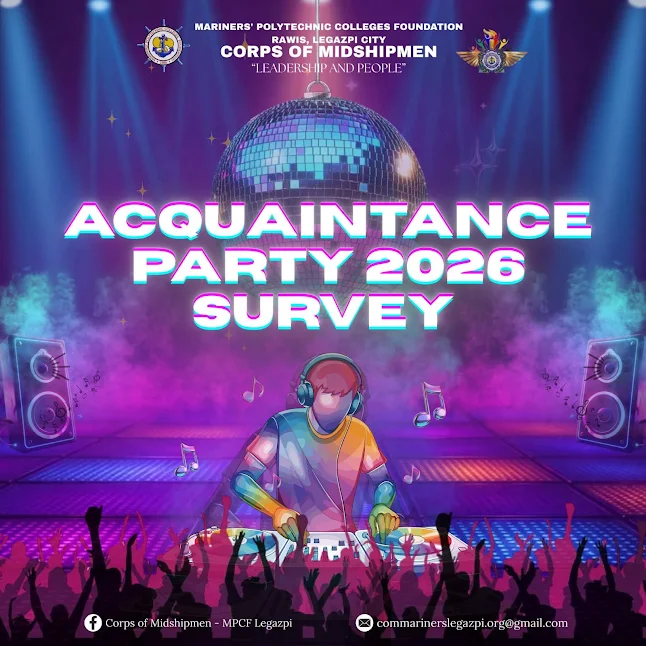embellishment: (353, 608, 376, 634), (81, 611, 104, 634)
logo: (455, 22, 528, 81), (134, 16, 194, 78)
text: (60, 192, 606, 336), (193, 18, 467, 75), (375, 616, 573, 632), (103, 615, 296, 631)
